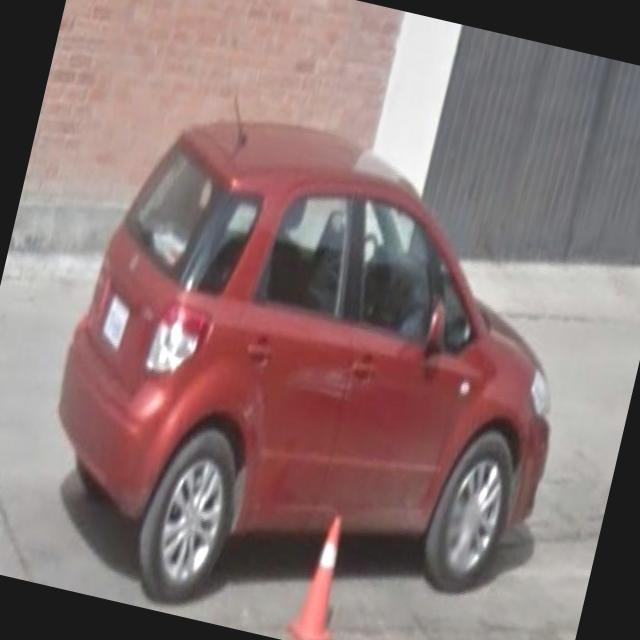car: (14, 81, 610, 640)
